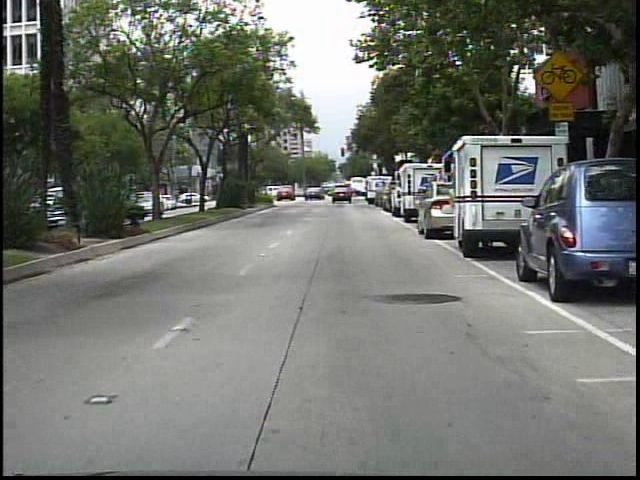person: (344, 183, 357, 203)
